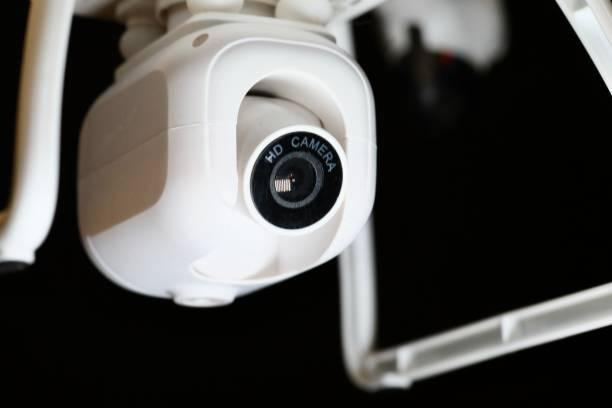camera: (62, 11, 410, 340)
